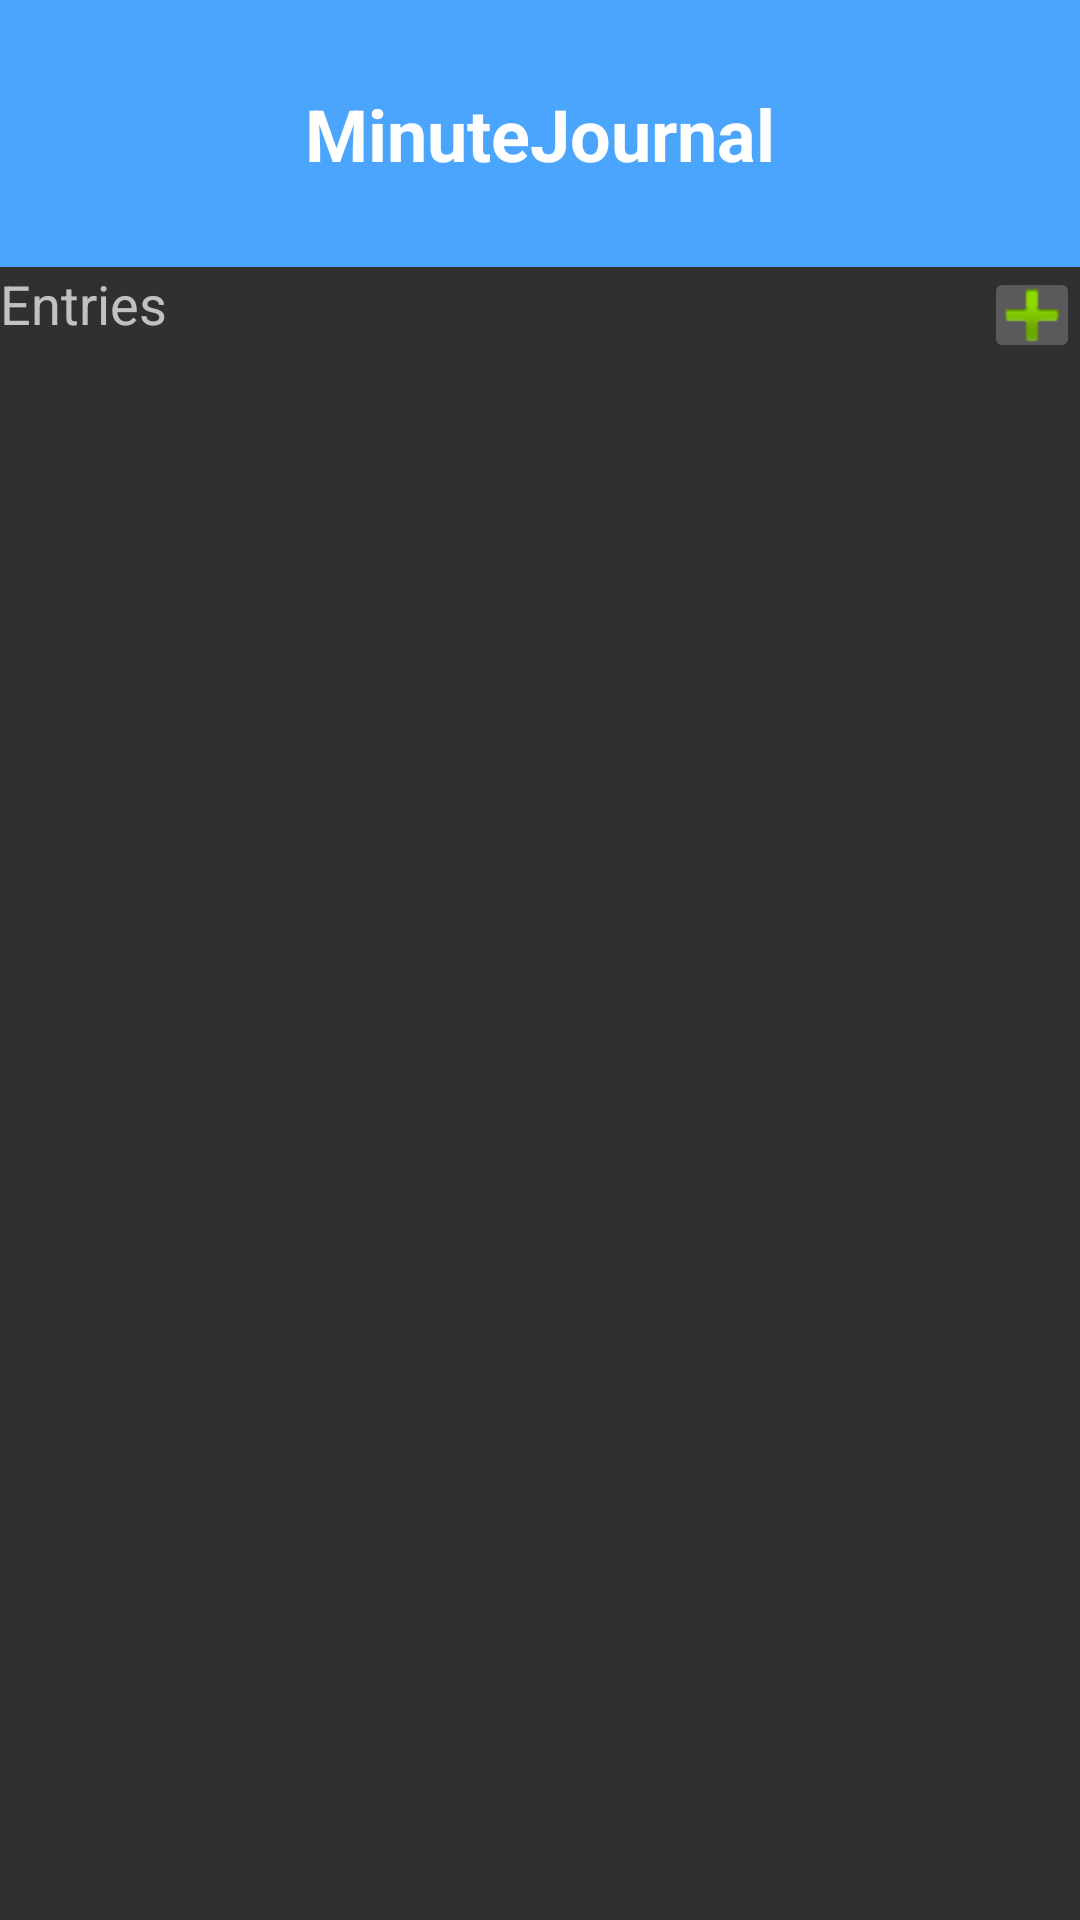

Locate icon controls on the screen. Image size 1080px×1920px, boxes as (x1=x1, y1=y1, x2=x2, y2=y2).
add: (x1=996, y1=285, x2=1068, y2=345)
